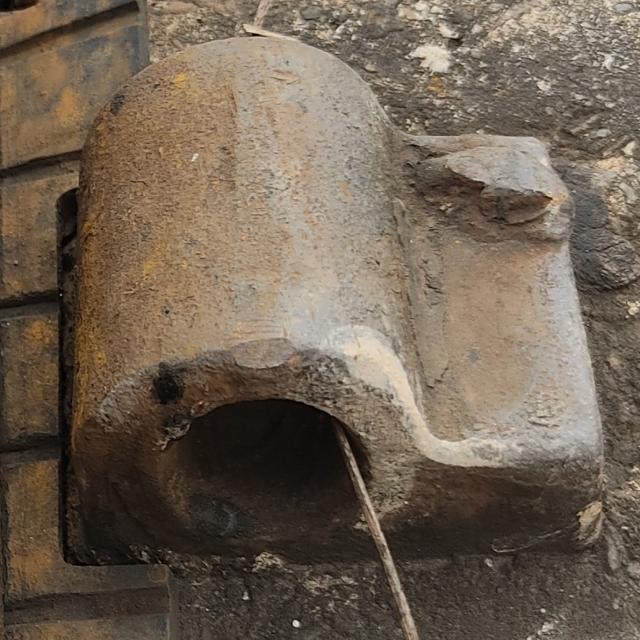track_bolt_missing: (61, 23, 436, 544)
